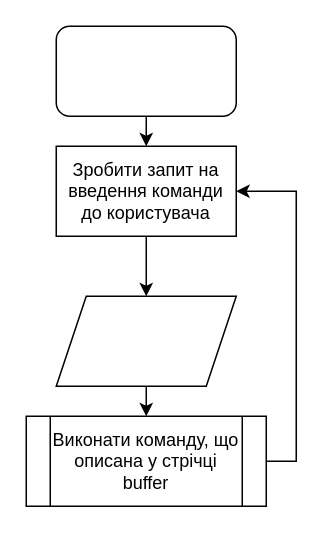
Some shapes in this 335 by 533 pixel diagram are drawn without their labels. Here are the shapes that lost their labels. From the top down, the centre of each, then its label:
At pixel 145 70: "Початок launchConsole()".
At pixel 145 340: "buffer".
